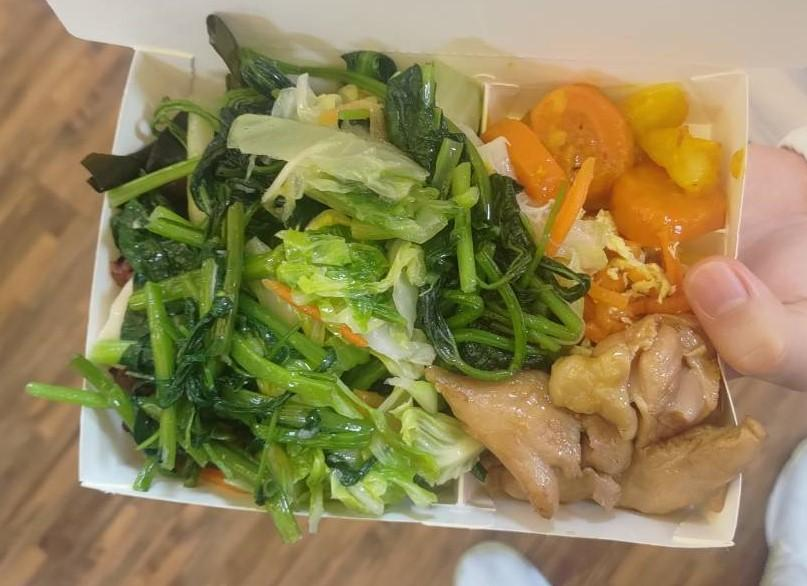big grilled chicken leg: (63, 26, 761, 561)
braised fish fillet: (104, 61, 565, 491), (494, 84, 731, 237), (531, 209, 700, 327)
braised pork: (454, 321, 750, 523)
